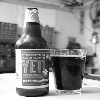beer: (15, 4, 53, 96)
